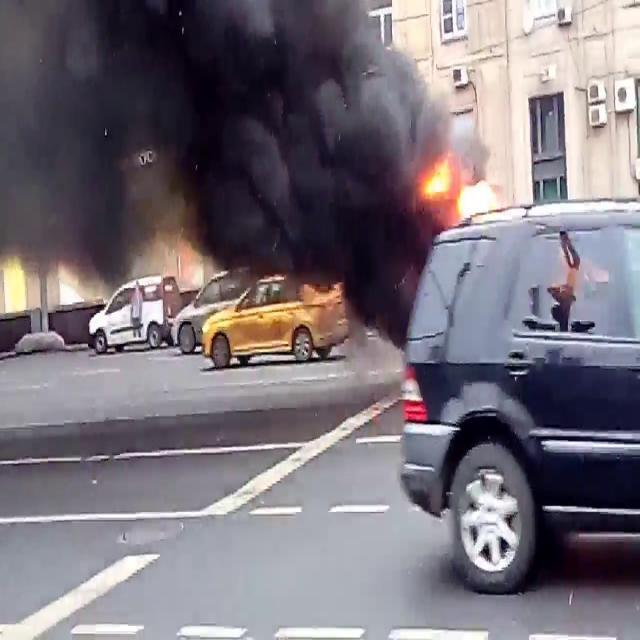Fire: (419, 149, 506, 223)
Smoke: (0, 0, 451, 316), (226, 273, 346, 352)
